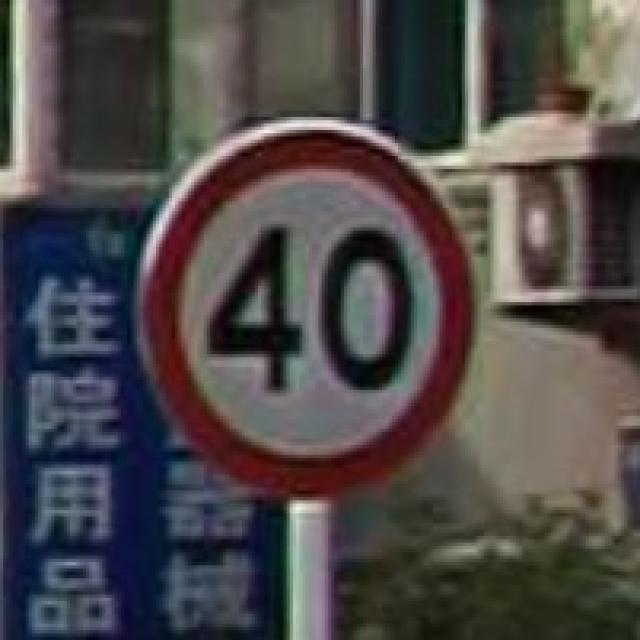Speed Limit -40-: (202, 220, 424, 392)
